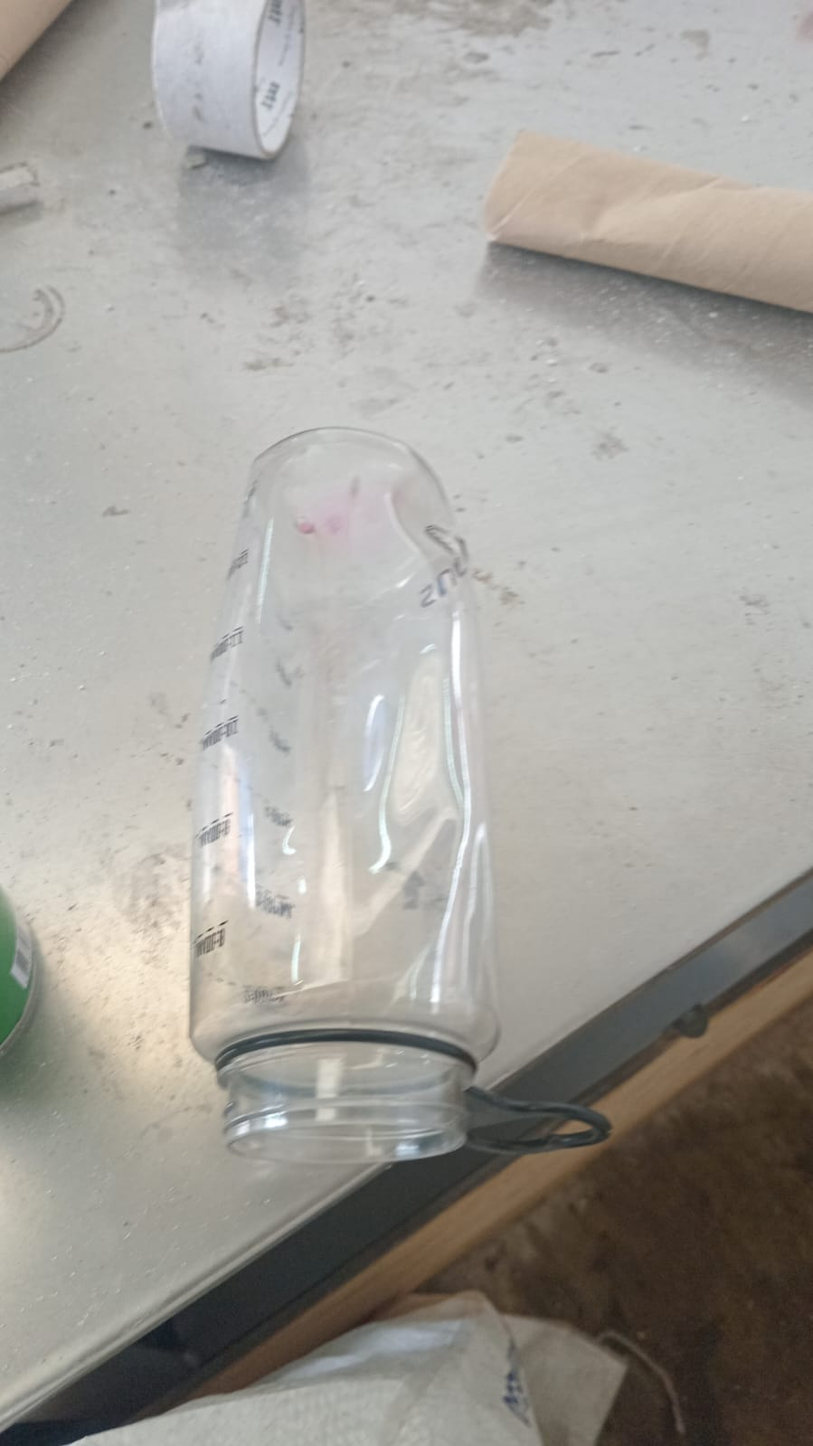Plastico: (190, 428, 500, 1162)
